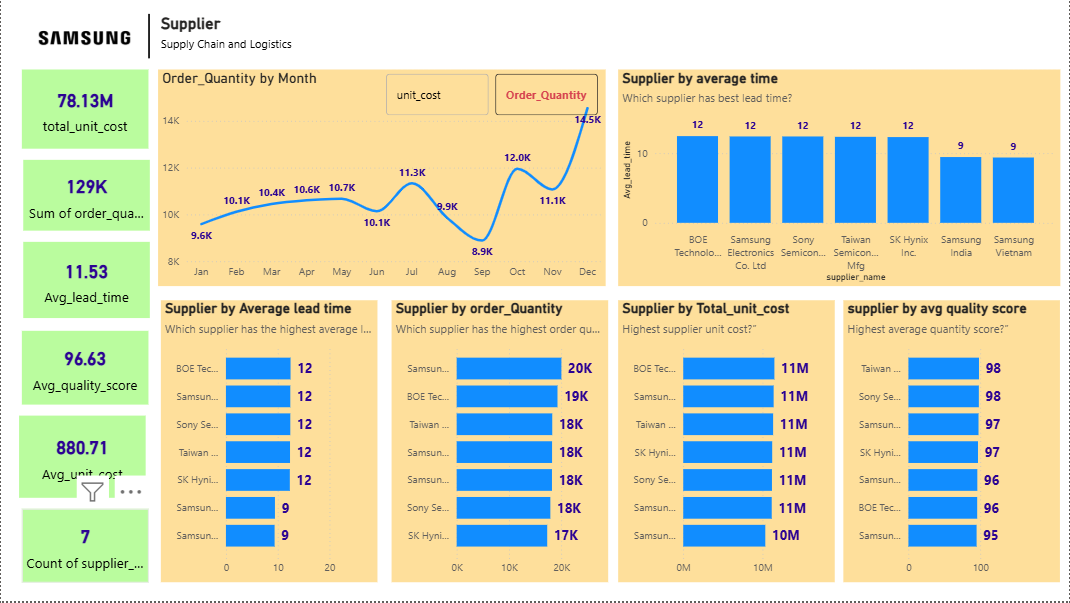

This screenshot's page, from the dashboard's own definition file:
{"tool":"powerbi","page":{"name":"Supplier","canvas":[1280,720],"ordinal":2},"visuals":[{"type":"shape","title":"Supplier","box":[192,17.2,161.7,46.7],"z":0},{"type":"lineChart","fields":{"Y":["measurestable.Order_QTY"],"Category":["dim_date.Month_short"]},"box":[188.3,83.3,536.7,260],"z":0,"group":"g1"},{"type":"shape","box":[162.8,17.2,28.3,53.3],"z":1000},{"type":"advancedSlicerVisual","fields":{"Values":["Cost_Qty_Supplier.Cost_Qty_Supplier"]},"box":[456.6,83.3,265,60],"z":1000,"group":"g1"},{"type":"image","box":[31,24.3,131.4,40],"z":2000},{"type":"card","fields":{"Values":["Sum(fact_procurement.order_quantity)"]},"box":[26.7,192,151.7,85],"z":3000},{"type":"card","fields":{"Values":["measurestable.Avg_lead_time"]},"box":[26.7,290.7,151.7,91.7],"z":4000},{"type":"card","fields":{"Values":["fact_procurement.Avg_quality_score"]},"box":[25,396,151.7,88.3],"z":5000},{"type":"card","fields":{"Values":["fact_procurement.Avg_unit_cost"]},"box":[21.7,498,151.7,98.3],"z":6000},{"type":"card","fields":{"Values":["CountNonNull(dim_supplier.supplier_id)"]},"box":[25,610,151.7,88.3],"z":7000},{"type":"card","fields":{"Values":["fact_procurement.total_unit_cost"]},"box":[25,83.3,151.7,95],"z":8000},{"type":"barChart","title":"Supplier by Average lead time","fields":{"Y":["measurestable.Avg_lead_time"],"Category":["dim_supplier.supplier_name"]},"box":[191.7,360,260,338.3],"z":9000},{"type":"barChart","title":"Supplier by order_Quantity","fields":{"Category":["dim_supplier.supplier_name"],"Y":["measurestable.Order_QTY"]},"box":[468.3,360,260,338.3],"z":10000},{"type":"barChart","title":"Supplier by Total_unit_cost","fields":{"Y":["fact_procurement.total_unit_cost"],"Category":["dim_supplier.supplier_name"]},"box":[740,360,260,338.3],"z":11000},{"type":"barChart","title":"supplier by avg quality score","fields":{"Y":["fact_procurement.Avg_quality_score"],"Category":["dim_supplier.supplier_name"]},"box":[1010,360,260,338.3],"z":12000},{"type":"group","id":"g1","title":"Group 1","box":[188.3,83.3,536.7,260],"z":13000},{"type":"columnChart","title":"Supplier by average time","fields":{"Category":["dim_supplier.supplier_name"],"Y":["measurestable.Avg_lead_time"]},"box":[740,83.3,530,260],"z":14000}]}

Visuals, with their boxes in screenshot pixels (x1, y1, x2, y2), scaled from the page's 1280x720 canvas onto the 1070x603 screenshot:
"Supplier" shape: box=[160, 14, 296, 54]
lineChart - measurestable.Order_QTY x dim_date.Month_short: box=[157, 70, 606, 288]
shape: box=[136, 14, 160, 59]
advancedSlicerVisual - Cost_Qty_Supplier.Cost_Qty_Supplier: box=[382, 70, 603, 120]
image: box=[26, 20, 136, 54]
card - Sum(fact_procurement.order_quantity): box=[22, 161, 149, 232]
card - measurestable.Avg_lead_time: box=[22, 243, 149, 320]
card - fact_procurement.Avg_quality_score: box=[21, 332, 148, 406]
card - fact_procurement.Avg_unit_cost: box=[18, 417, 145, 499]
card - CountNonNull(dim_supplier.supplier_id): box=[21, 511, 148, 585]
card - fact_procurement.total_unit_cost: box=[21, 70, 148, 149]
"Supplier by Average lead time" barChart: box=[160, 302, 378, 585]
"Supplier by order_Quantity" barChart: box=[391, 302, 609, 585]
"Supplier by Total_unit_cost" barChart: box=[619, 302, 836, 585]
"supplier by avg quality score" barChart: box=[844, 302, 1062, 585]
"Group 1" group: box=[157, 70, 606, 288]
"Supplier by average time" columnChart: box=[619, 70, 1062, 288]
